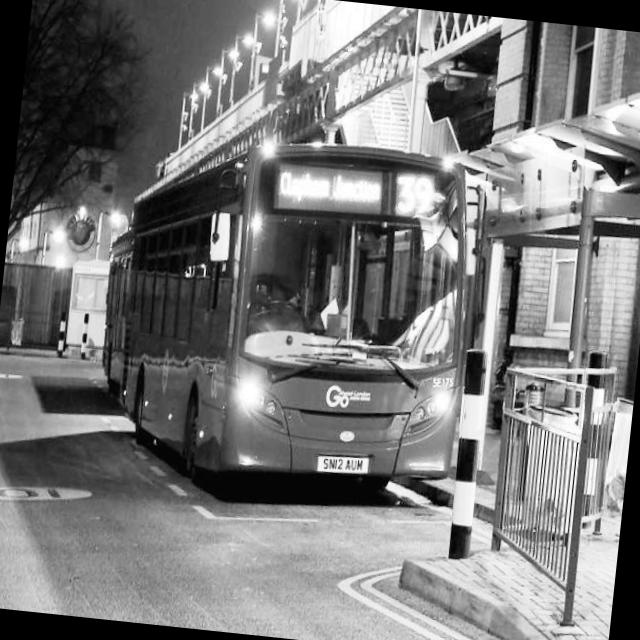Bus: (84, 128, 495, 516)
